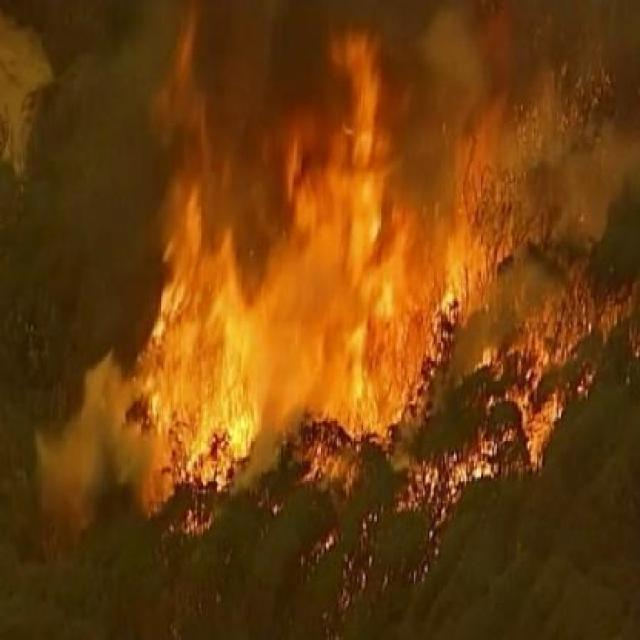Fire: (139, 115, 508, 509)
